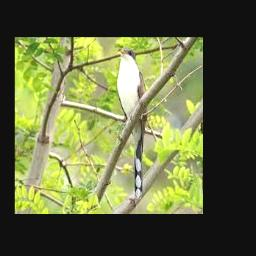Cuckoo: (116, 48, 146, 199)
